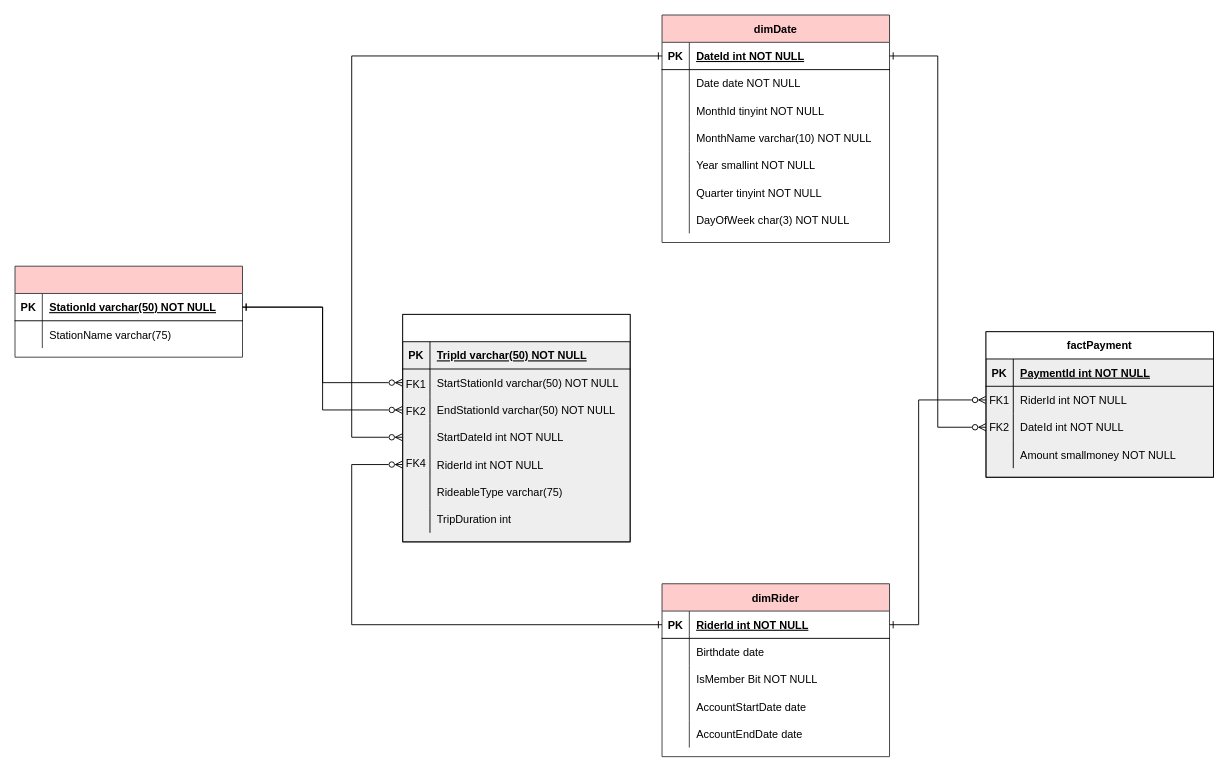
The diagram is 1229 pixels wide and 772 high, and some of its shapes have lost their labels. The shapes that lost their labels are listed below. From the top down, each one's box as (x1, y1, x2, y2) in pixels, then its label:
(14, 265, 243, 357): dimStation
(402, 313, 630, 542): factTrip
